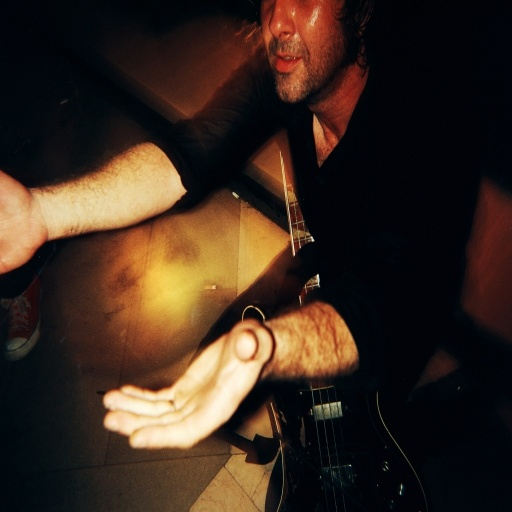hand: (101, 320, 285, 461), (0, 169, 47, 274)
